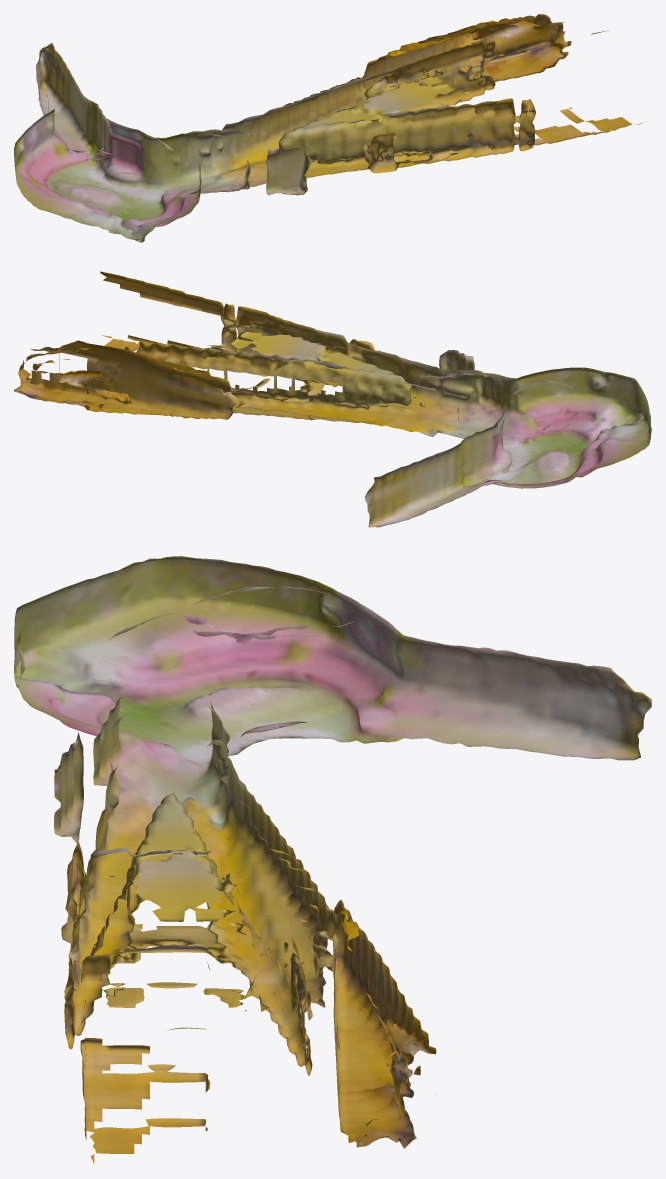
File: blooming-frutiger-1-1_collider.glb
3 views of the same model, one above another, from view 1: azimuth 30°, elevation 25°; view 2: azimuth 150°, elevation 25°; view 3: azimuth 270°, elevation 25° (orthographic). The views are drawn at different scales.
Parts seen in each view (by area): view 1: world; view 2: world; view 3: world.
Part boxes in pixels (x1,y1,x2,y2): world: (14, 14, 643, 242); world: (14, 271, 651, 527); world: (14, 556, 651, 1163).
Bounding box in the file's own units: 30.44 × 3.7 × 16.63.
